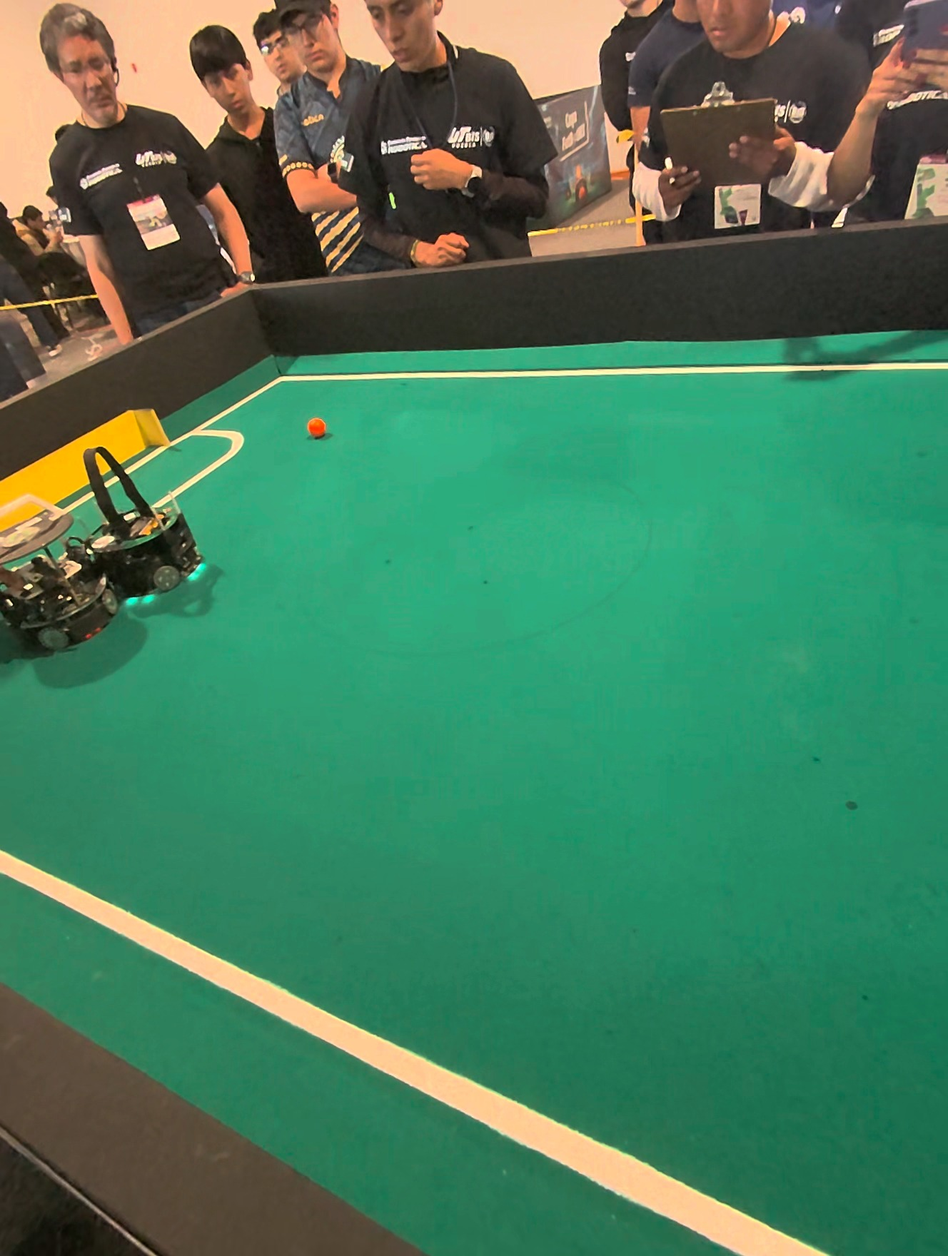Robot: (69, 394, 214, 623), (0, 526, 127, 666)
pelota: (294, 408, 345, 448)
